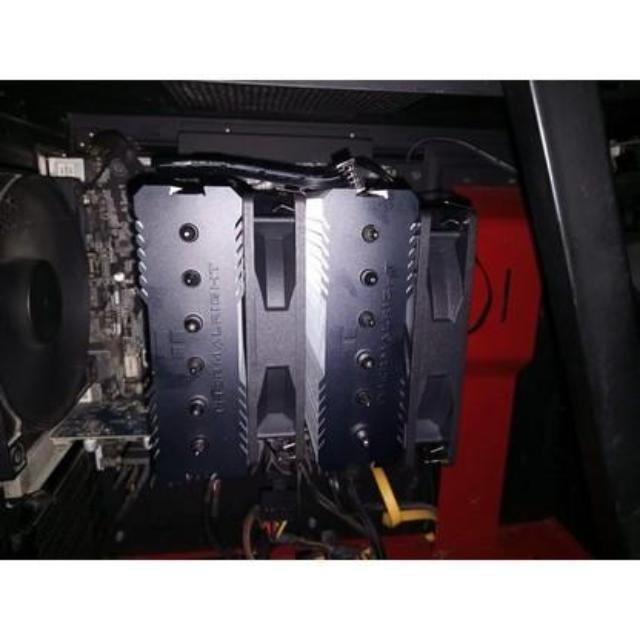CPU_Fan: (133, 168, 473, 498)
